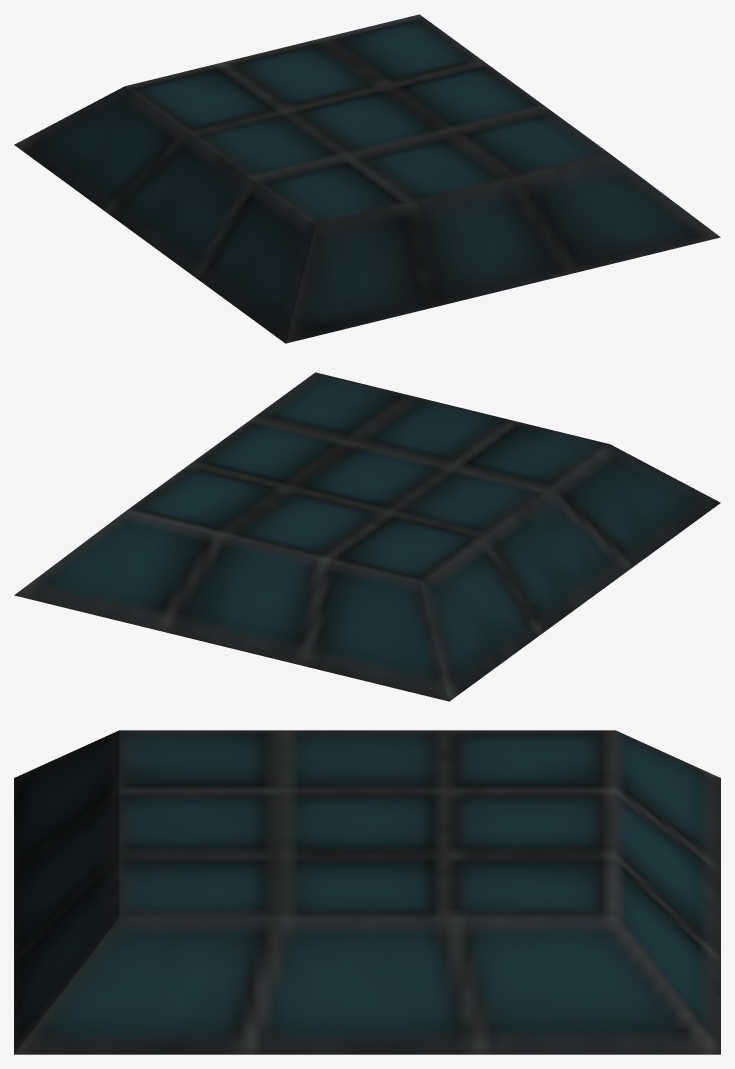
File: Roof_BigGlass.FBX
3 views of the same model, one above another, from view 1: azimuth 30°, elevation 25°; view 2: azimuth 150°, elevation 25°; view 3: azimuth 270°, elevation 25° (orthographic). The views are drawn at different scales.
Parts seen in each view (by area): view 1: Roof_BigGlass; view 2: Roof_BigGlass; view 3: Roof_BigGlass.
Boxes of the visible parts, x1,y1,x2,y2 form: Roof_BigGlass: (14, 14, 720, 343); Roof_BigGlass: (14, 372, 720, 701); Roof_BigGlass: (14, 730, 720, 1054).
Bounding box in the file's own units: 8 × 1.25 × 8.64.
